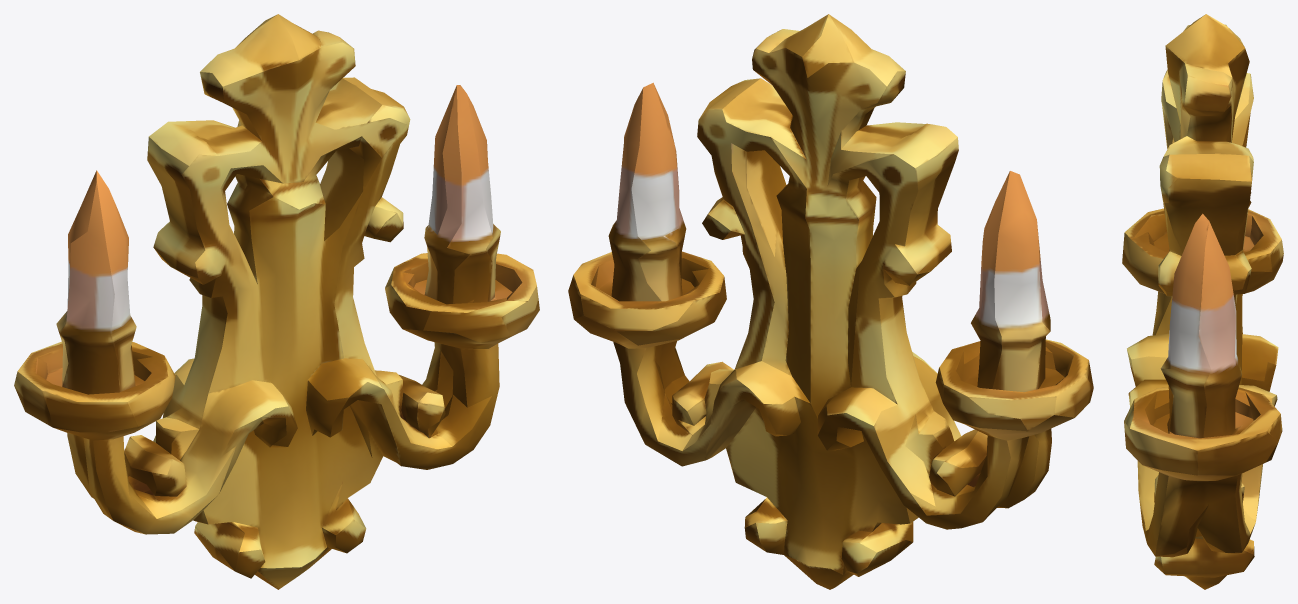
Rendered from gilt-wall-sconce.glb.
3 views of the same model, side by side, from view 1: azimuth 30°, elevation 25°; view 2: azimuth 150°, elevation 25°; view 3: azimuth 270°, elevation 25° (orthographic).
Visible parts, largest first — view 1: geometry_0; view 2: geometry_0; view 3: geometry_0.
Boxes of the visible parts, x1,y1,x2,y2 form: geometry_0: (14,14,539,589); geometry_0: (568,14,1093,589); geometry_0: (1122,14,1283,589).
Bounding box in the file's own units: 0.9123 × 1 × 0.2544.
1 material, 1 textured.
